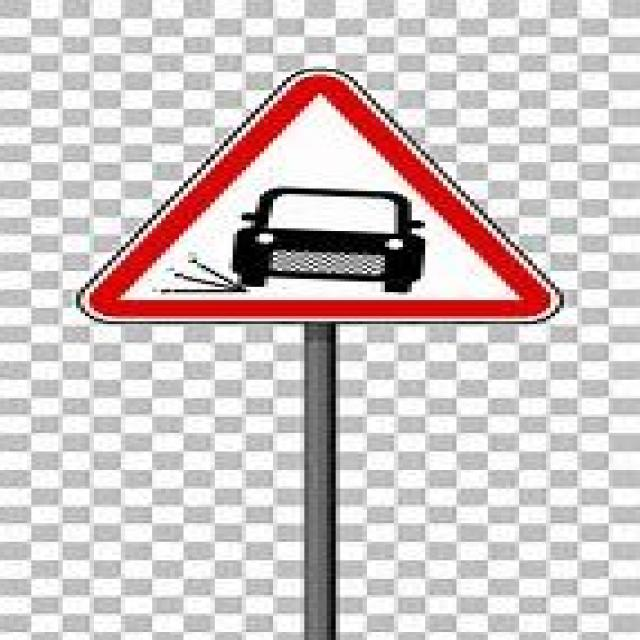LOOSE_GRAVEL: (74, 68, 566, 323)
